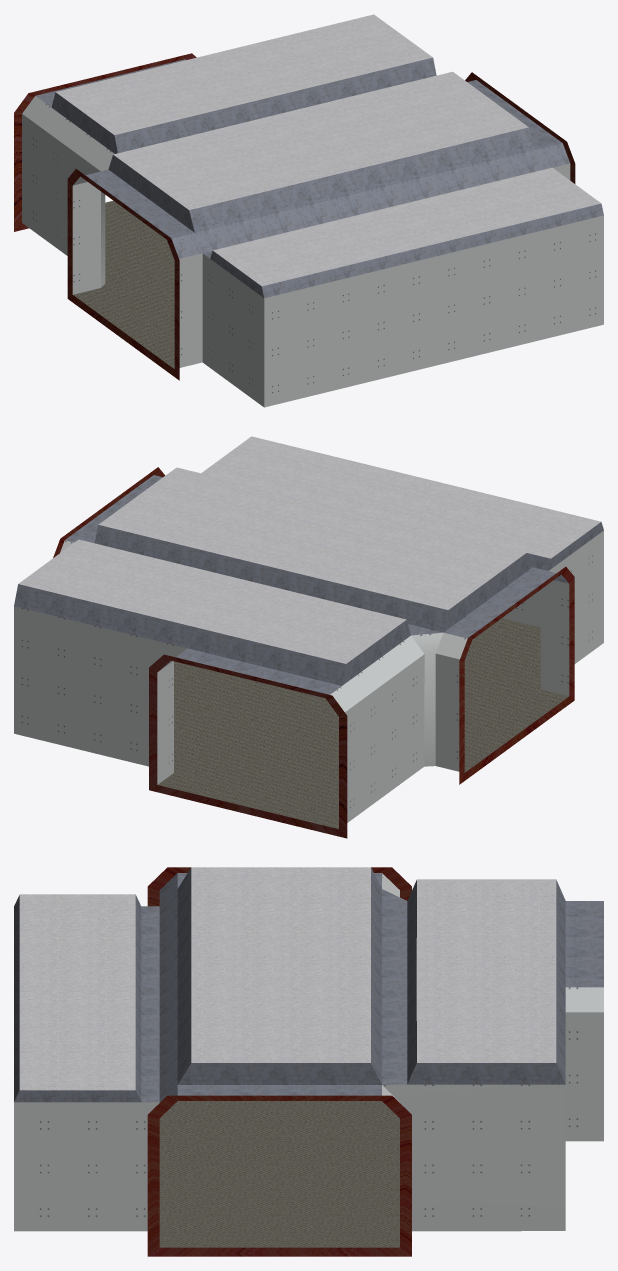
Rendered from starship_tech_room.FBX.
The picture shows the model from 3 angles, top to bottom: view 1: azimuth 30°, elevation 25°; view 2: azimuth 150°, elevation 25°; view 3: azimuth 270°, elevation 25°; orthographic projection. The views are drawn at different scales.
Parts seen in each view (by area): view 1: Object001; view 2: Object001; view 3: Object001.
Part boxes in pixels (x1,y1,x2,y2): Object001: [14, 14, 603, 407]; Object001: [14, 436, 603, 838]; Object001: [14, 867, 603, 1256].
Bounding box in the file's own units: 5.47 × 1.98 × 5.97.
